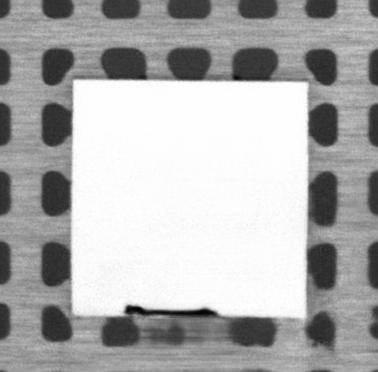DIE_BROKEN: (123, 304, 218, 317)
